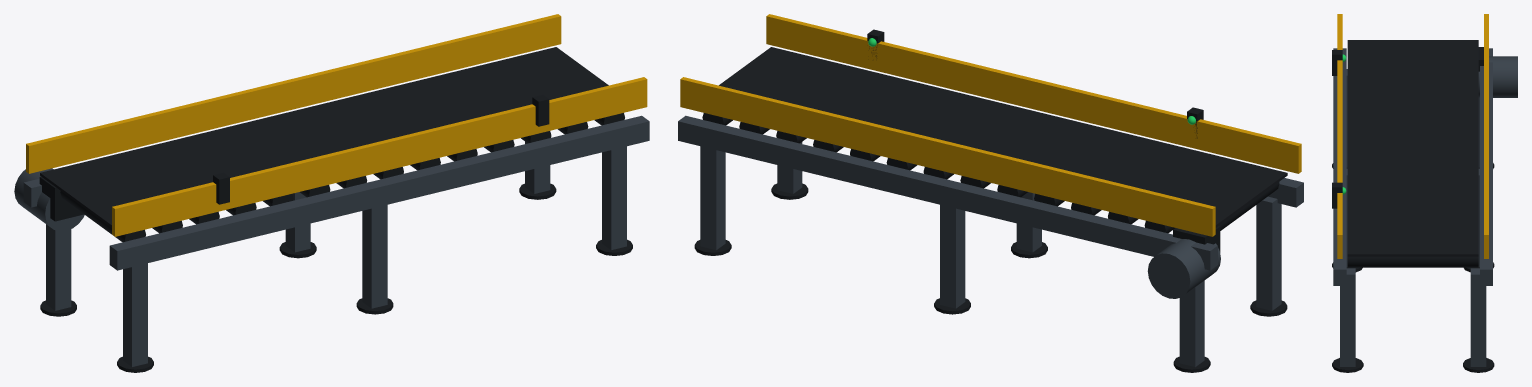
3 views of the same model, side by side, from view 1: azimuth 30°, elevation 25°; view 2: azimuth 150°, elevation 25°; view 3: azimuth 270°, elevation 25° (orthographic). The views are drawn at different scales.
Parts seen in each view (by area): view 1: guard:rail:-0.28, guard:rail:0.28, frame:rail:0.28, leg:0:0.25, leg:-0.9:0.25, leg:0.9:0.25, leg:-0.9:-0.25, belt:segment:0, belt:segment:18, belt:segment:15, belt:segment:2, belt:segment:13 (+20 smaller); view 2: guard:rail:-0.28, guard:rail:0.28, frame:rail:-0.28, leg:-0.9:0.25, motor:body, leg:0.9:-0.25, leg:0:-0.25, leg:-0.9:-0.25, belt:segment:0, belt:segment:5, belt:segment:13, belt:segment:18 (+20 smaller); view 3: frame:rail:0.28, frame:rail:-0.28, belt:segment:19, roller:13, belt:segment:16, belt:segment:5, belt:segment:15, belt:segment:4, belt:segment:2, belt:segment:14, leg:0.9:-0.25, belt:segment:7 (+23 smaller).
Boxes of the visible parts, bbox=[...] form: guard:rail:-0.28: bbox=[26, 14, 561, 173]; guard:rail:0.28: bbox=[112, 77, 647, 236]; frame:rail:0.28: bbox=[109, 115, 649, 270]; leg:0:0.25: bbox=[362, 205, 387, 308]; leg:-0.9:0.25: bbox=[123, 263, 147, 366]; leg:0.9:0.25: bbox=[602, 146, 626, 250]; leg:-0.9:-0.25: bbox=[46, 224, 71, 310]; belt:segment:0: bbox=[40, 166, 118, 227]; belt:segment:18: bbox=[504, 53, 582, 97]; belt:segment:15: bbox=[427, 72, 505, 116]; belt:segment:2: bbox=[92, 154, 170, 198]; belt:segment:13: bbox=[376, 84, 453, 129]; guard:rail:-0.28: bbox=[680, 77, 1215, 236]; guard:rail:0.28: bbox=[766, 14, 1301, 173]; frame:rail:-0.28: bbox=[678, 115, 1217, 270]; leg:-0.9:0.25: bbox=[1256, 196, 1281, 310]; motor:body: bbox=[1147, 239, 1220, 298]; leg:0.9:-0.25: bbox=[700, 146, 725, 250]; leg:0:-0.25: bbox=[940, 205, 965, 308]; leg:-0.9:-0.25: bbox=[1179, 280, 1204, 366]; belt:segment:0: bbox=[1208, 166, 1287, 227]; belt:segment:5: bbox=[1080, 135, 1158, 179]; belt:segment:13: bbox=[873, 84, 951, 129]; belt:segment:18: bbox=[744, 53, 822, 97]; frame:rail:0.28: bbox=[1333, 48, 1346, 285]; frame:rail:-0.28: bbox=[1480, 48, 1492, 285]; belt:segment:19: bbox=[1347, 243, 1478, 256]; roller:13: bbox=[1347, 256, 1478, 267]; belt:segment:16: bbox=[1347, 211, 1478, 222]; belt:segment:5: bbox=[1347, 93, 1478, 104]; belt:segment:15: bbox=[1347, 200, 1478, 211]; belt:segment:4: bbox=[1347, 82, 1478, 93]; belt:segment:2: bbox=[1347, 61, 1478, 72]; belt:segment:14: bbox=[1347, 189, 1478, 200]; leg:0.9:-0.25: bbox=[1470, 268, 1486, 366]; belt:segment:7: bbox=[1347, 114, 1478, 125].
Bounding box in the file's own units: 2 × 0.625 × 0.71.
